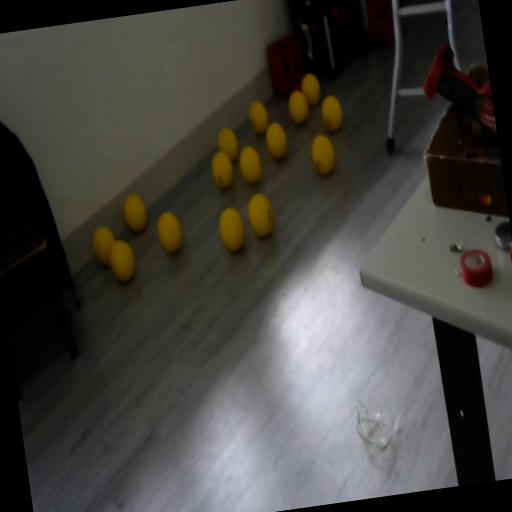FUEL: (106, 236, 138, 286), (216, 204, 248, 254), (245, 190, 277, 240), (154, 209, 186, 257), (309, 132, 338, 178), (236, 143, 264, 186), (121, 192, 149, 235), (318, 93, 346, 133), (263, 120, 290, 160), (216, 125, 242, 165), (285, 87, 311, 127), (246, 99, 271, 136), (300, 70, 324, 107)
